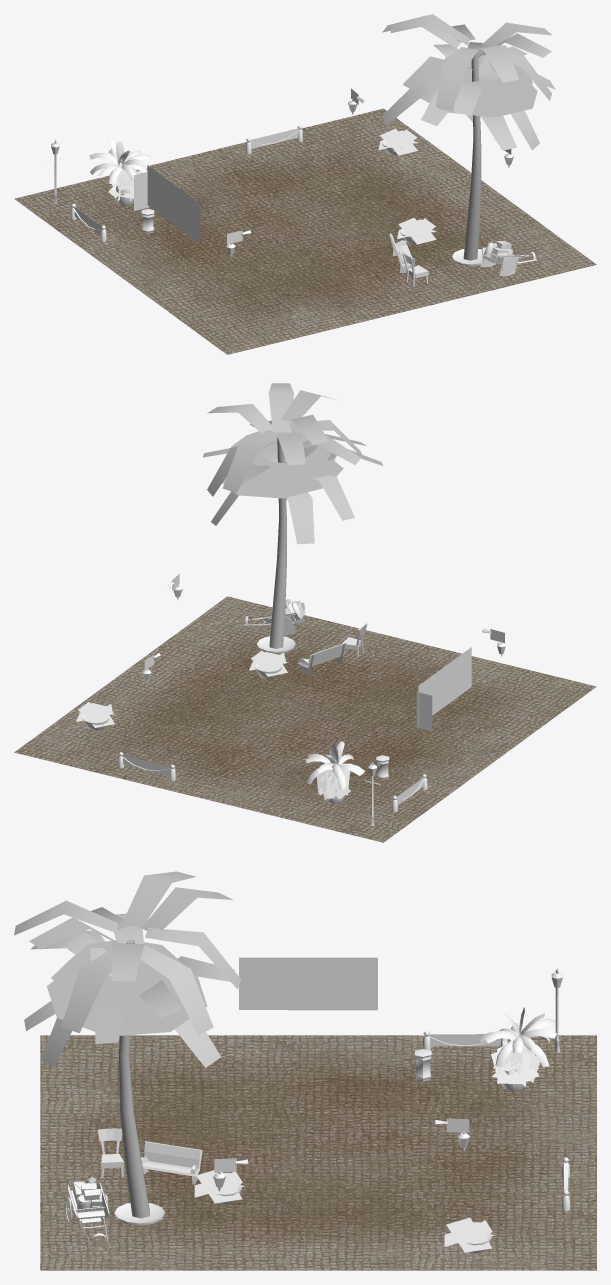
File: propsonly_6.gltf
The picture shows the model from 3 angles, top to bottom: view 1: azimuth 30°, elevation 25°; view 2: azimuth 150°, elevation 25°; view 3: azimuth 270°, elevation 25°; orthographic projection. The views are drawn at different scales.
Visible parts, largest first — view 1: ground, prop_tree1.001, prop_lights, prop_treepot_tree, prop_cart, prop_pot_flower, prop_pot_flower.001, prop_chain_fence6.001, prop_drinks, prop_treepot_bush; view 2: ground, prop_tree1.001, prop_lights, prop_treepot_tree, prop_cart, prop_treepot_bush, prop_bench1.001, prop_pot_flower.001, prop_pot_flower, prop_chain_fence6.001, prop_drinks; view 3: ground, prop_tree1.001, prop_lights, prop_treepot_tree, prop_cart, prop_bench1.001, prop_treepot_bush, prop_pot_flower, prop_pot_flower.001, prop_chain_fence6, prop_chair1.001, prop_pot.002 (+2 smaller).
Part boxes in pixels (x1,y1,x2,y2): ground: (14, 108, 596, 354); prop_tree1.001: (382, 14, 555, 260); prop_lights: (147, 165, 200, 243); prop_treepot_tree: (89, 140, 150, 184); prop_cart: (480, 240, 536, 275); prop_pot_flower: (378, 128, 418, 155); prop_pot_flower.001: (397, 218, 436, 244); prop_chain_fence6.001: (245, 125, 302, 154); prop_drinks: (134, 172, 149, 210); prop_treepot_bush: (108, 168, 141, 201); ground: (14, 596, 596, 842); prop_tree1.001: (203, 383, 382, 648); prop_lights: (418, 647, 471, 725); prop_treepot_tree: (305, 741, 364, 789); prop_cart: (244, 599, 305, 634); prop_treepot_bush: (316, 769, 350, 800); prop_bench1.001: (298, 642, 346, 675); prop_pot_flower.001: (249, 650, 288, 676); prop_pot_flower: (76, 702, 115, 727); prop_chain_fence6.001: (118, 752, 175, 780); prop_drinks: (416, 692, 432, 731); ground: (40, 1035, 596, 1270); prop_tree1.001: (14, 871, 241, 1218); prop_lights: (239, 957, 377, 1010); prop_treepot_tree: (478, 1007, 556, 1067); prop_cart: (65, 1177, 109, 1243); prop_bench1.001: (141, 1141, 202, 1185); prop_treepot_bush: (491, 1041, 539, 1086); prop_pot_flower: (444, 1217, 495, 1252); prop_pot_flower.001: (194, 1170, 244, 1203); prop_chain_fence6: (422, 1031, 507, 1050); prop_chair1.001: (97, 1128, 123, 1177); prop_pot.002: (114, 1203, 164, 1225).
Size of what is drawn, in the model's own units: 3.3 by 2.16 by 3.46.
